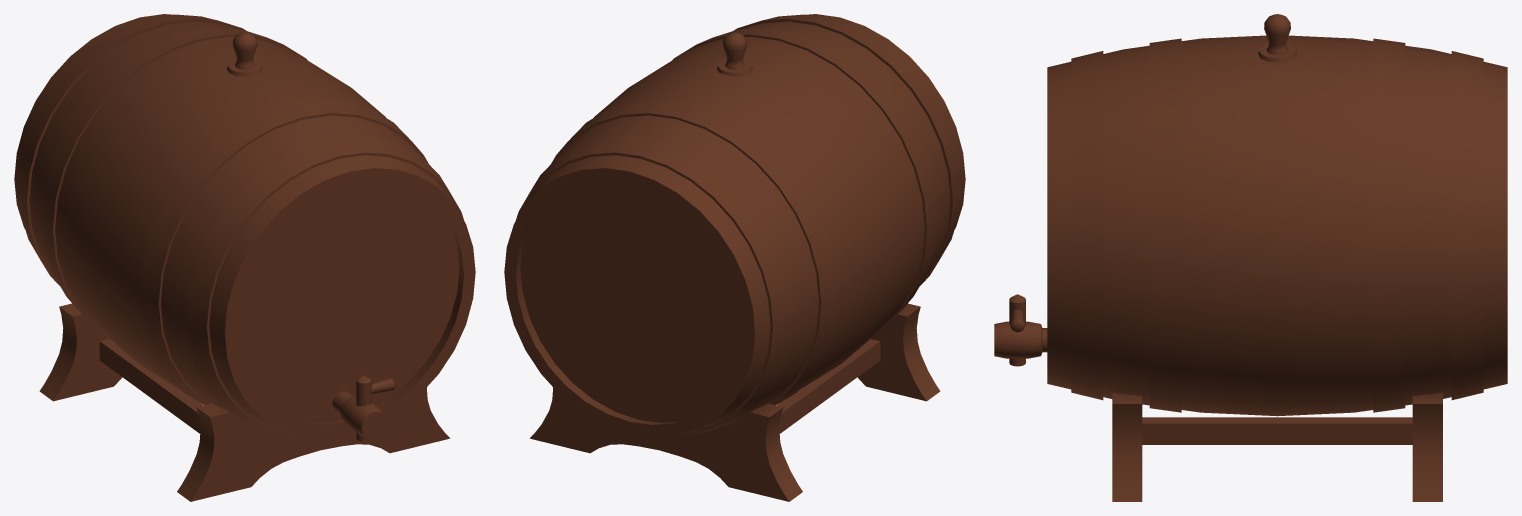
The model's file is winebarrel.obj.
3 renders of one model, left to right at view 1: azimuth 30°, elevation 25°; view 2: azimuth 150°, elevation 25°; view 3: azimuth 270°, elevation 25°, orthographic. The views are drawn at different scales.
Parts seen in each view (by area): view 1: barrel_Untitled, rings_Untitled.002, stand_Untitled.001, valve_Untitled.003, bung_Untitled.004; view 2: barrel_Untitled, rings_Untitled.002, stand_Untitled.001, bung_Untitled.004; view 3: barrel_Untitled, rings_Untitled.002, stand_Untitled.001, bung_Untitled.004, valve_Untitled.003.
Part boxes in pixels (x1=…): barrel_Untitled: x1=14, y1=14, x2=475, y2=438; rings_Untitled.002: x1=18, y1=14, x2=464, y2=436; stand_Untitled.001: x1=39, y1=303, x2=449, y2=501; valve_Untitled.003: x1=356, y1=375, x2=395, y2=441; bung_Untitled.004: x1=232, y1=32, x2=257, y2=69; barrel_Untitled: x1=504, y1=14, x2=965, y2=437; rings_Untitled.002: x1=515, y1=14, x2=961, y2=436; stand_Untitled.001: x1=530, y1=303, x2=940, y2=501; bung_Untitled.004: x1=722, y1=32, x2=747, y2=69; barrel_Untitled: x1=994, y1=35, x2=1507, y2=416; rings_Untitled.002: x1=1071, y1=38, x2=1483, y2=412; stand_Untitled.001: x1=1112, y1=392, x2=1442, y2=501; bung_Untitled.004: x1=1264, y1=14, x2=1290, y2=54; valve_Untitled.003: x1=1009, y1=294, x2=1025, y2=366.
Size of the model in its own units: 0.6198 by 0.7483 by 0.8342.
